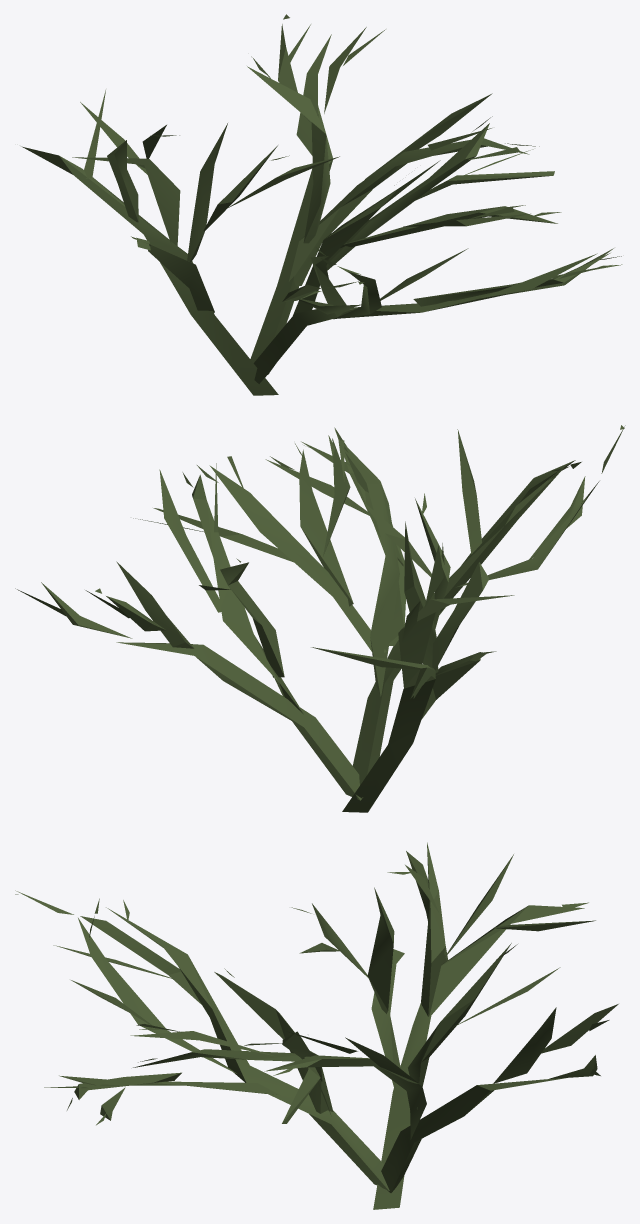
File: Shipovnik Universal.fbx
3 renders of one model, top to bottom at view 1: azimuth 30°, elevation 25°; view 2: azimuth 150°, elevation 25°; view 3: azimuth 270°, elevation 25°, orthographic. The views are drawn at different scales.
Visible parts, largest first — view 1: tree.004; view 2: tree.004; view 3: tree.004.
Boxes of the visible parts, x1,y1,x2,y2 form: tree.004: (21, 14, 622, 395); tree.004: (15, 425, 625, 812); tree.004: (15, 842, 618, 1209).
Bounding box in the file's own units: 168 × 109 × 202.
